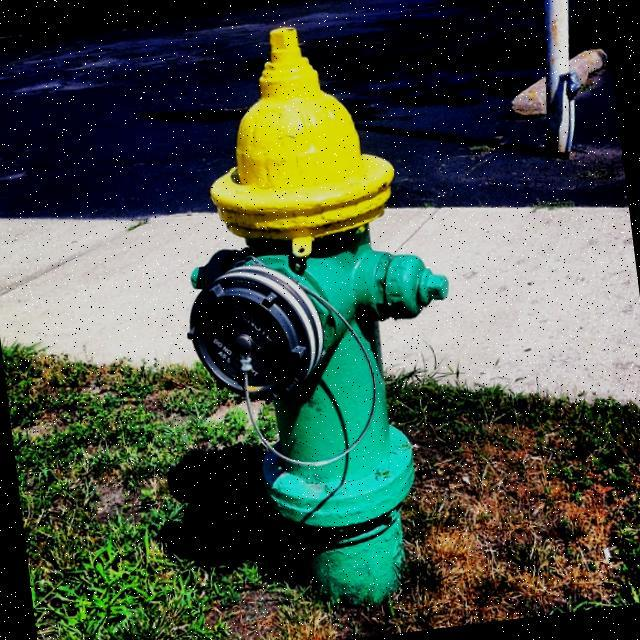fire_hydrant: (150, 7, 488, 625)
